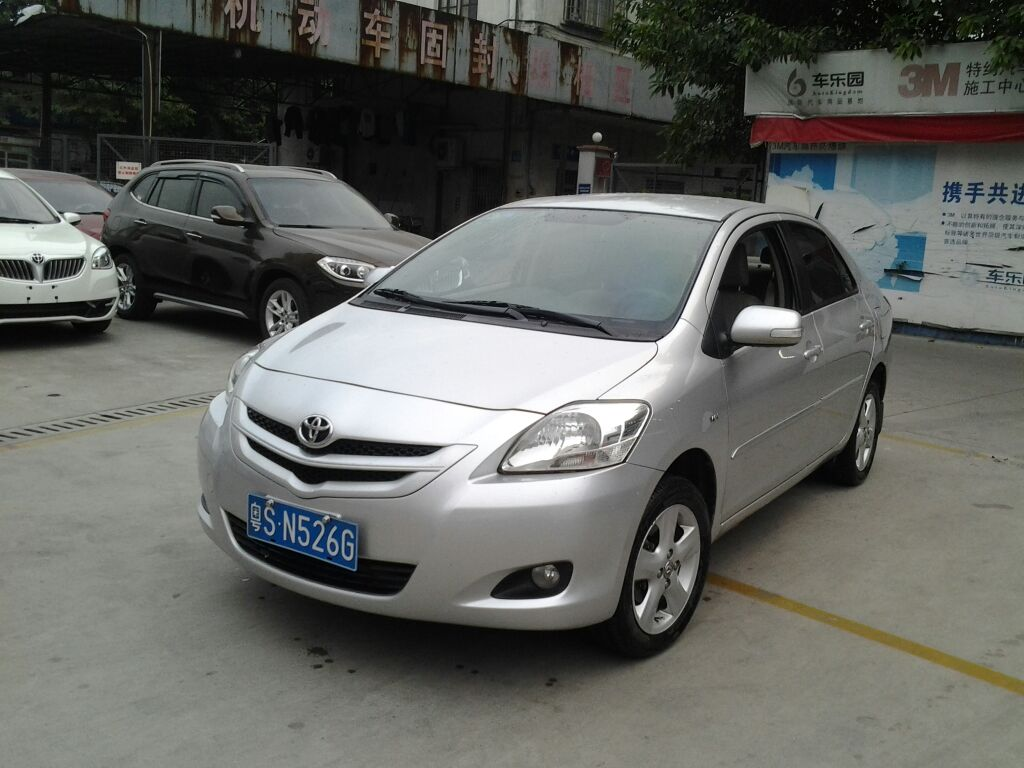car: (250, 190, 820, 606), (122, 151, 259, 300), (5, 170, 122, 333)
